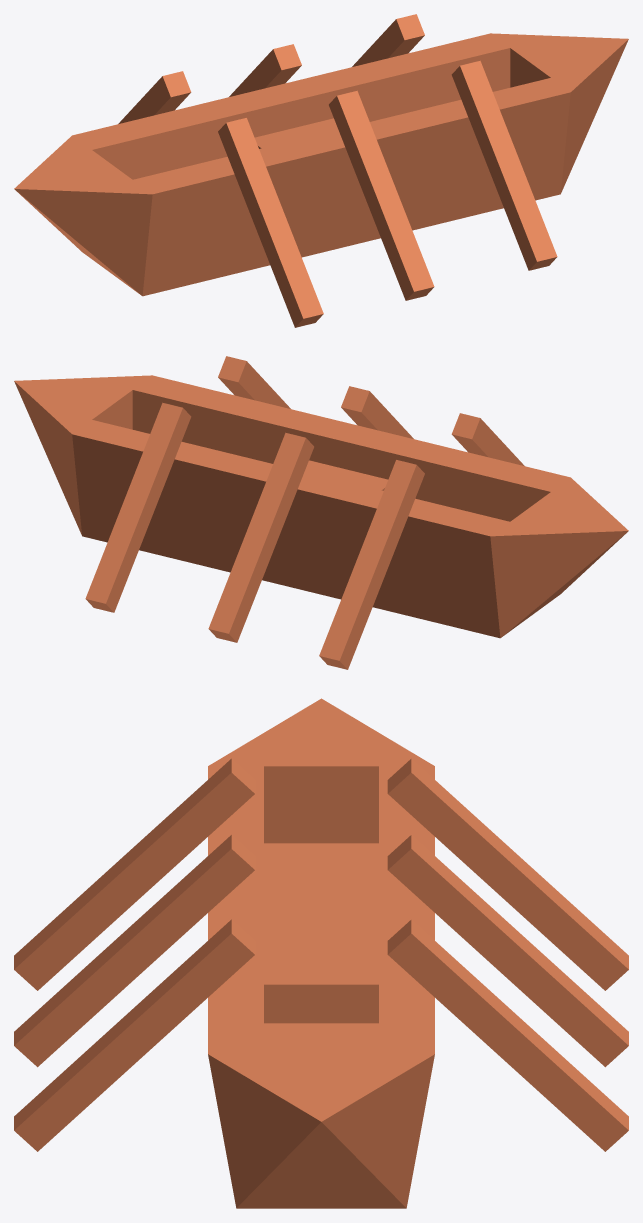
File: unit_boat.dae
3 views of the same model, one above another, from view 1: azimuth 30°, elevation 25°; view 2: azimuth 150°, elevation 25°; view 3: azimuth 270°, elevation 25° (orthographic). The views are drawn at different scales.
Parts seen in each view (by area): view 1: unit_boat, Group (×6); view 2: unit_boat, Group (×6); view 3: unit_boat, Group (×6).
Boxes of the visible parts, box(x1,y1,x2,y2) form: unit_boat: box(14, 33, 628, 296); Group (×6): box(118, 14, 557, 327); unit_boat: box(14, 375, 628, 638); Group (×6): box(85, 356, 524, 669); unit_boat: box(208, 698, 434, 1208); Group (×6): box(14, 758, 628, 1151).
Bounding box in the file's own units: 0.645 × 0.1553 × 0.3959.
